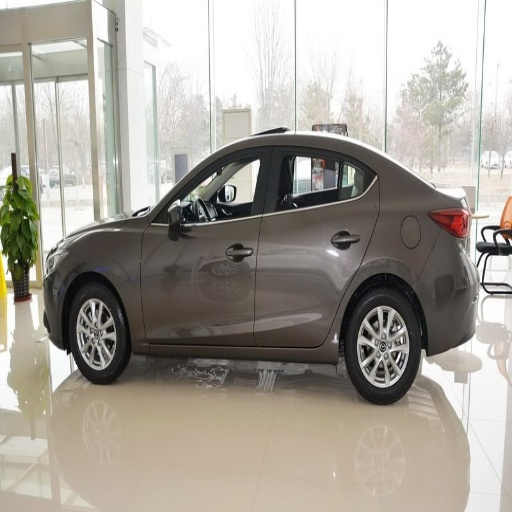_background_: (416, 266, 479, 346)
back_glass: (255, 143, 379, 346)
back_left_door: (431, 205, 472, 240)
front_glass: (141, 140, 269, 344)
trunk: (343, 289, 421, 404), (66, 283, 127, 383)
